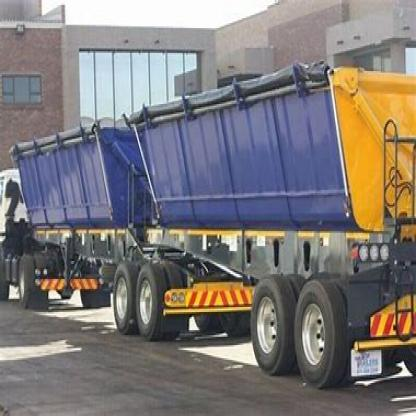dump_truck: (8, 61, 415, 396)
